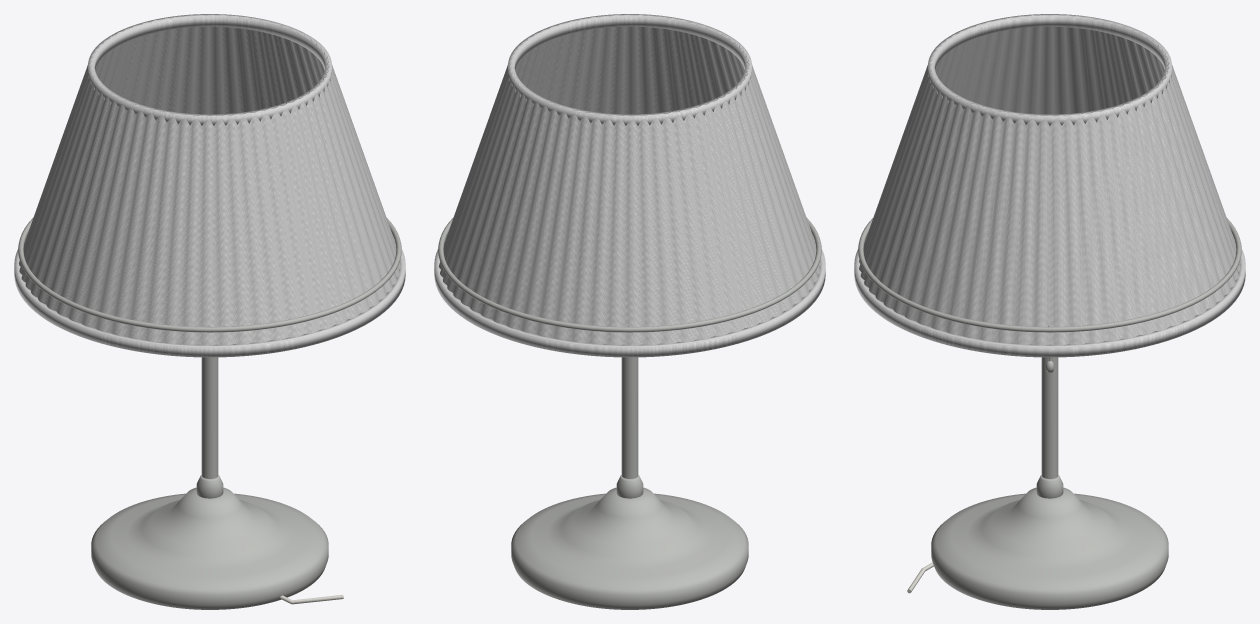
Rendered from table-lamp-pleated.glb.
3 renders of one model, left to right at view 1: azimuth 30°, elevation 25°; view 2: azimuth 150°, elevation 25°; view 3: azimuth 270°, elevation 25°, orthographic.
Visible parts, largest first — view 1: Houseit table-lamp-pleated; view 2: Houseit table-lamp-pleated; view 3: Houseit table-lamp-pleated.
Part boxes in pixels (left/top/right/bottom): Houseit table-lamp-pleated: left=14, top=14, right=405, bottom=609; Houseit table-lamp-pleated: left=434, top=14, right=825, bottom=609; Houseit table-lamp-pleated: left=854, top=14, right=1245, bottom=609.
Size of the model in its own units: 0.356 by 0.5 by 0.356.
Materials: 4 (1 with a texture image).
